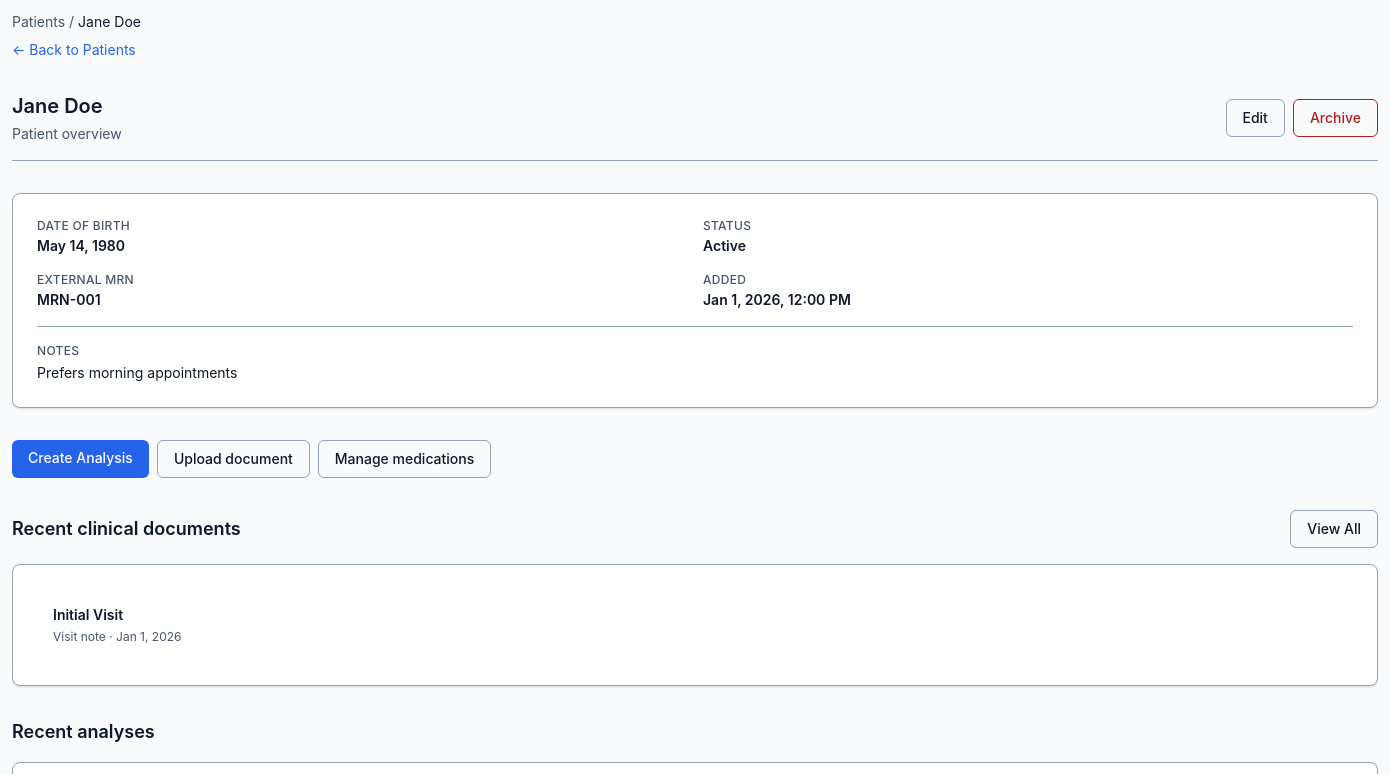
it: PatientOverviewPage › lets a recent document card be clicked to view its extracted text
expect the heading "Initial Visit" is shown: met, box [53,606,123,623]
expect the text "Patient presents with hypertension." is not shown: met
Click the button with aria-label "View Initial Visit": [88, 614] box [37,589,1353,661]
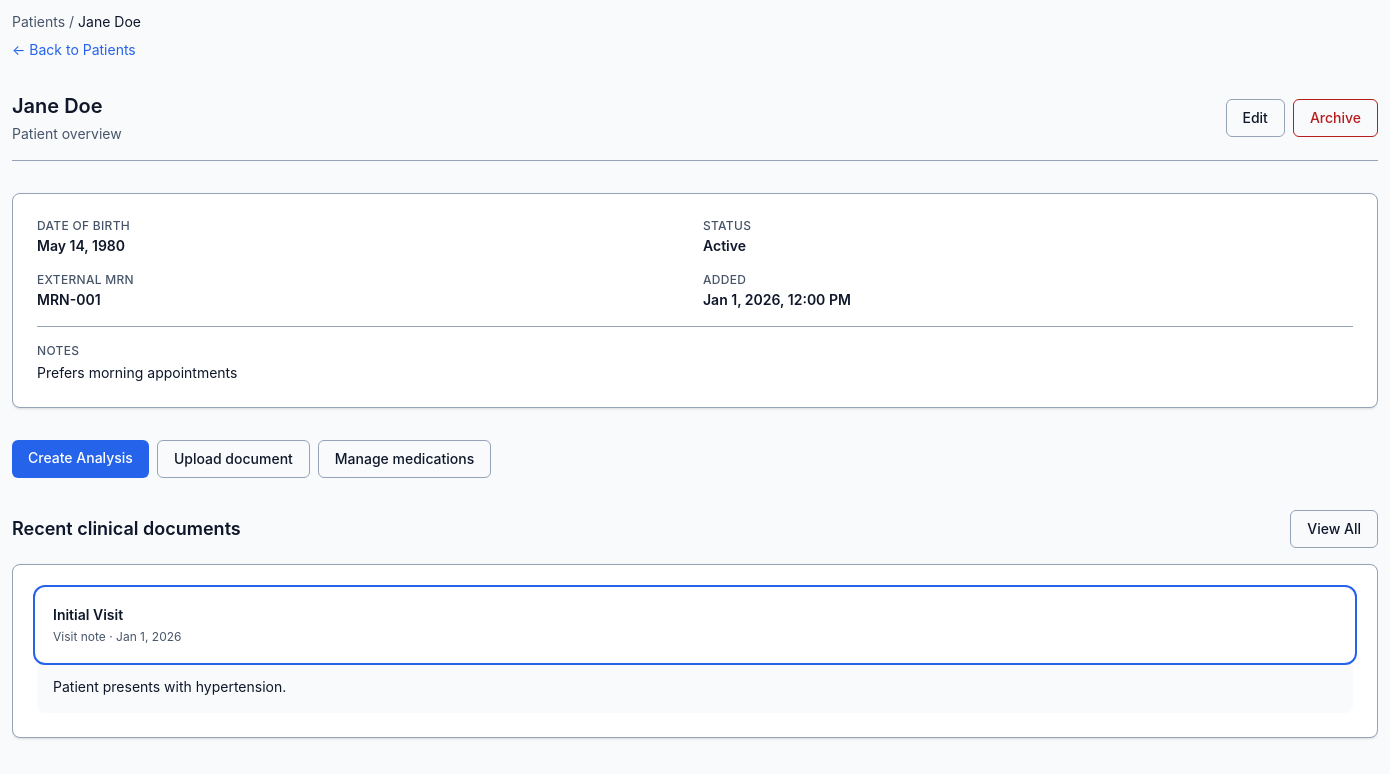
expect the text "Patient presents with hypertension." is shown: met, box [37,661,1353,713]
